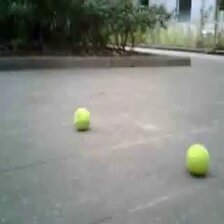tennis: (185, 146, 208, 174), (73, 108, 90, 129)
